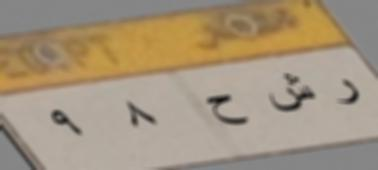7aa: (204, 91, 252, 130)
8: (124, 99, 160, 132)
9: (50, 106, 85, 144)
raa: (334, 76, 364, 116)
sheen: (264, 70, 318, 118)
